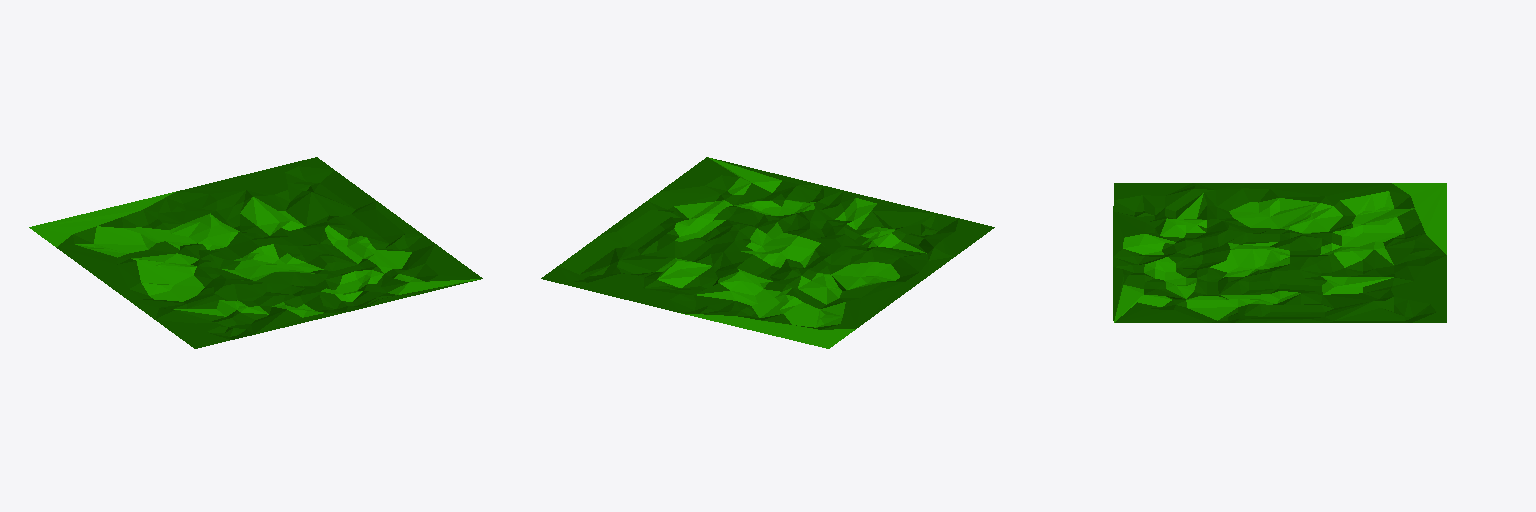
The model's file is Terrain03.obj.
3 renders of one model, left to right at view 1: azimuth 30°, elevation 25°; view 2: azimuth 150°, elevation 25°; view 3: azimuth 270°, elevation 25°, orthographic.
Parts seen in each view (by area): view 1: Plane.003; view 2: Plane.003; view 3: Plane.003.
Part boxes in pixels (bbox=[...]): Plane.003: bbox=[29, 157, 482, 348]; Plane.003: bbox=[541, 157, 994, 348]; Plane.003: bbox=[1113, 183, 1446, 322].
Size of the model in its own units: 50 by 2.42 by 50.01.